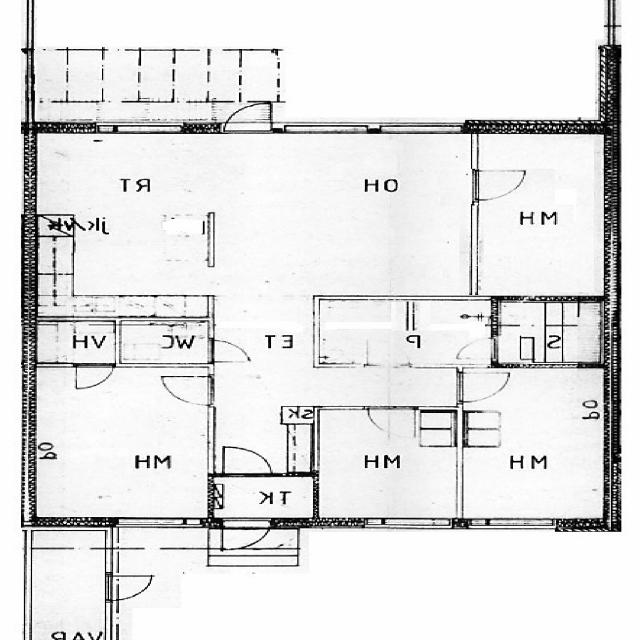door: (224, 91, 276, 133), (222, 520, 272, 561), (472, 170, 529, 201), (458, 372, 515, 402), (224, 444, 272, 477), (369, 406, 416, 439), (164, 377, 218, 404), (364, 338, 409, 368), (103, 577, 153, 602), (452, 336, 501, 361), (210, 338, 256, 361), (75, 362, 112, 389)
